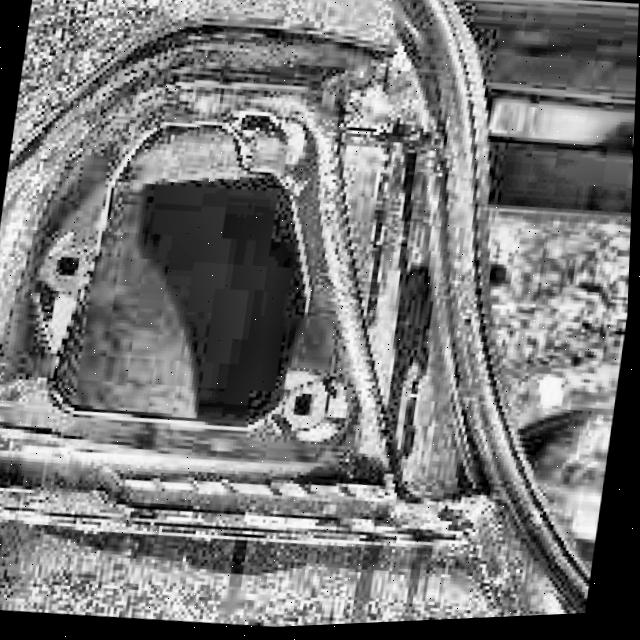tail_lamp: (0, 9, 476, 558)
